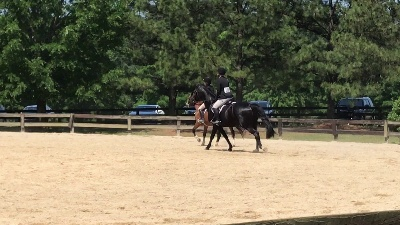jetta: (183, 79, 277, 156)
